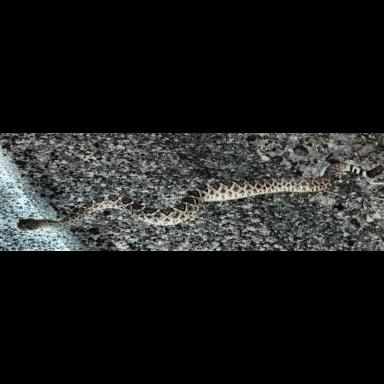snake: (17, 176, 335, 232), (335, 161, 383, 179)
